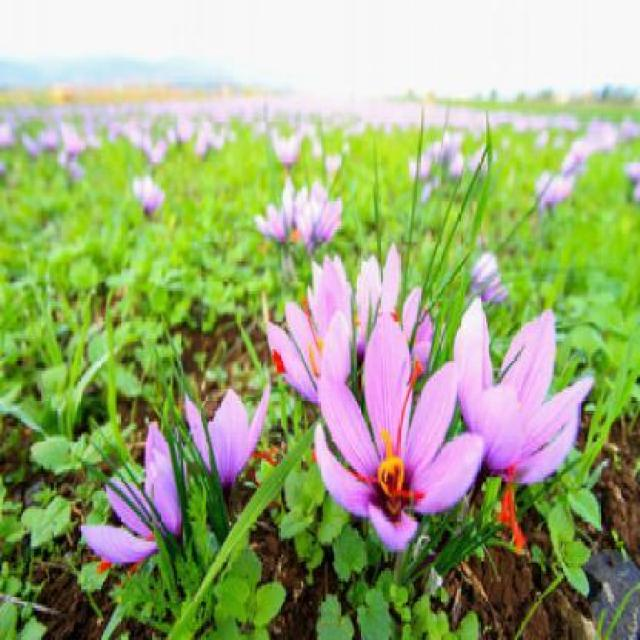Flower: (306, 321, 476, 537), (73, 425, 196, 547), (180, 375, 271, 483), (294, 190, 341, 244), (246, 197, 302, 238), (132, 179, 170, 210)
stigma: (394, 358, 429, 461), (500, 459, 526, 550)
